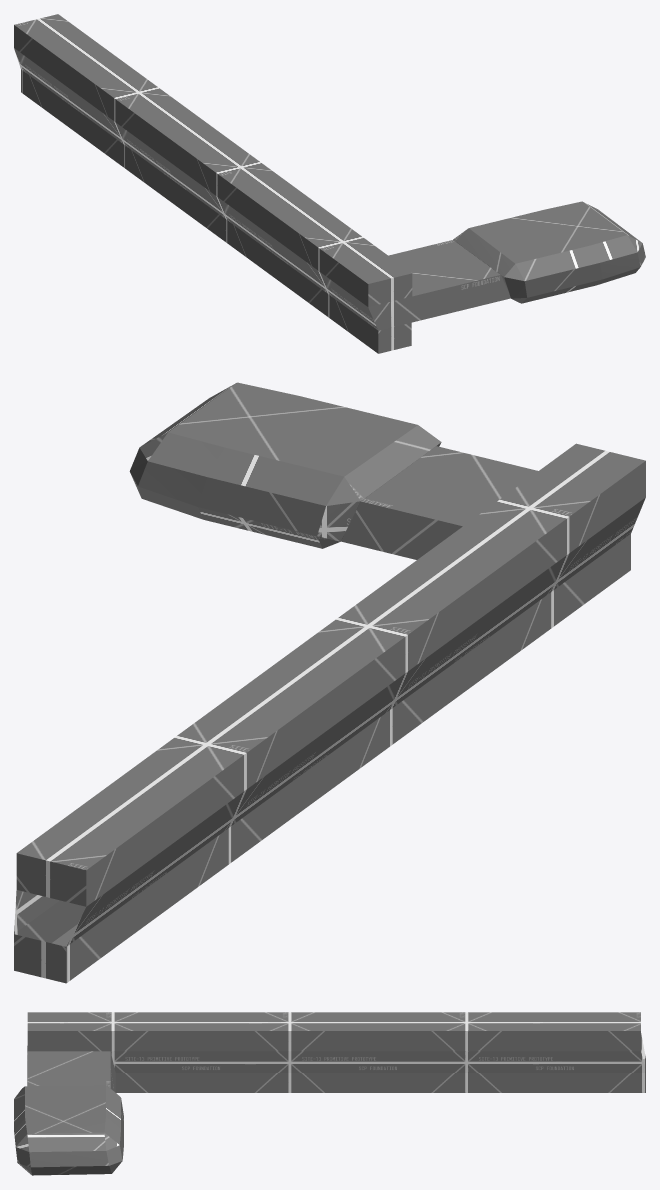
Rendered from FSR-S5-Bolt.obj.
3 views of the same model, one above another, from view 1: azimuth 30°, elevation 25°; view 2: azimuth 150°, elevation 25°; view 3: azimuth 270°, elevation 25° (orthographic). The views are drawn at different scales.
Visible parts, largest first — view 1: FSR-S5-Bolt; view 2: FSR-S5-Bolt; view 3: FSR-S5-Bolt.
Boxes of the visible parts, x1=… form: FSR-S5-Bolt: x1=14, y1=14, x2=645, y2=353; FSR-S5-Bolt: x1=14, y1=382, x2=645, y2=983; FSR-S5-Bolt: x1=14, y1=1012, x2=645, y2=1175.
Bounding box in the file's own units: 1.58 × 0.3889 × 3.57.
